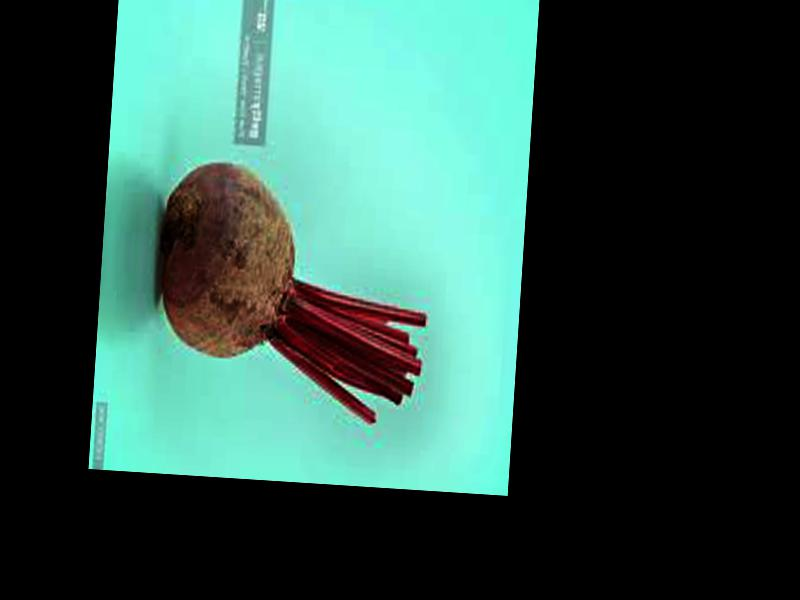Beet: (150, 159, 432, 424)
